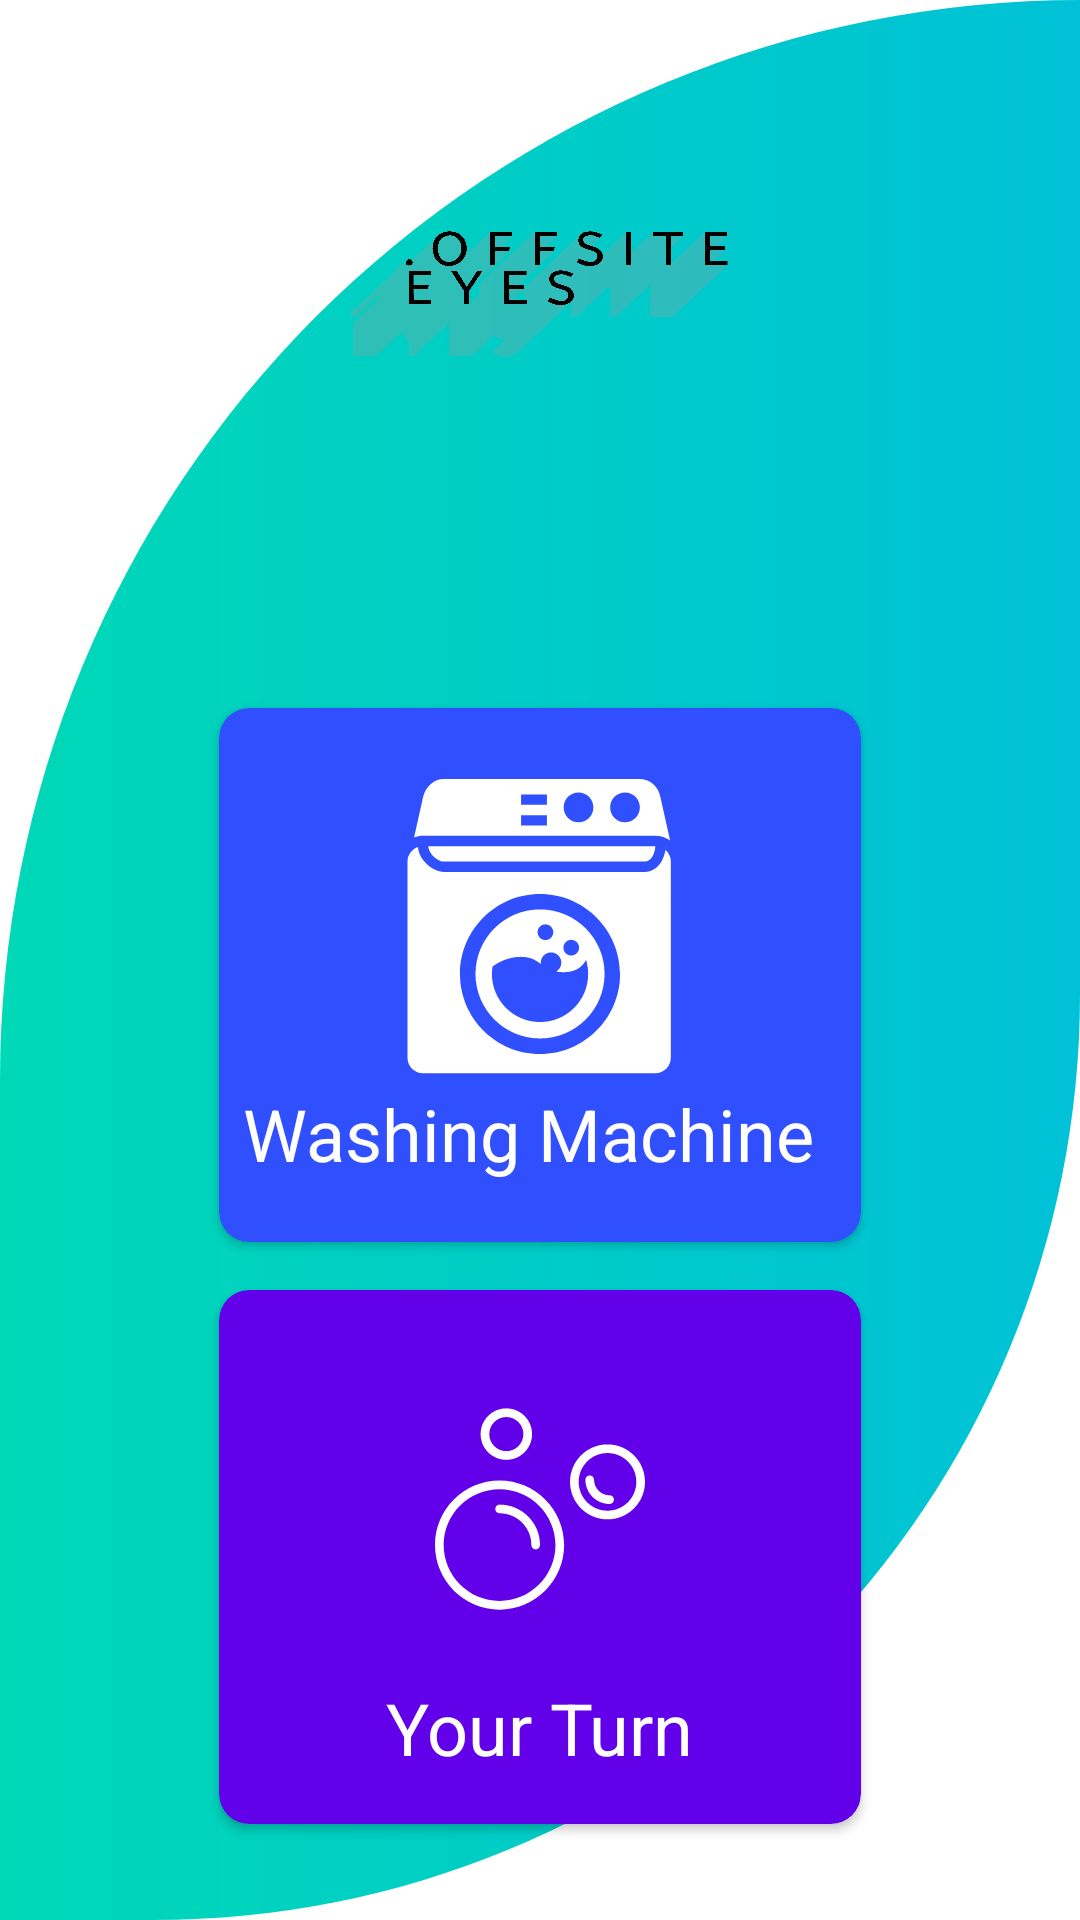

Icon bounding boxes for this 1080px x 1920px phone screenshot, format {"x1": x1, "y1": y1, "x2": x2, "y2": y2}:
bubbles: {"x1": 435, "y1": 1408, "x2": 645, "y2": 1610}
